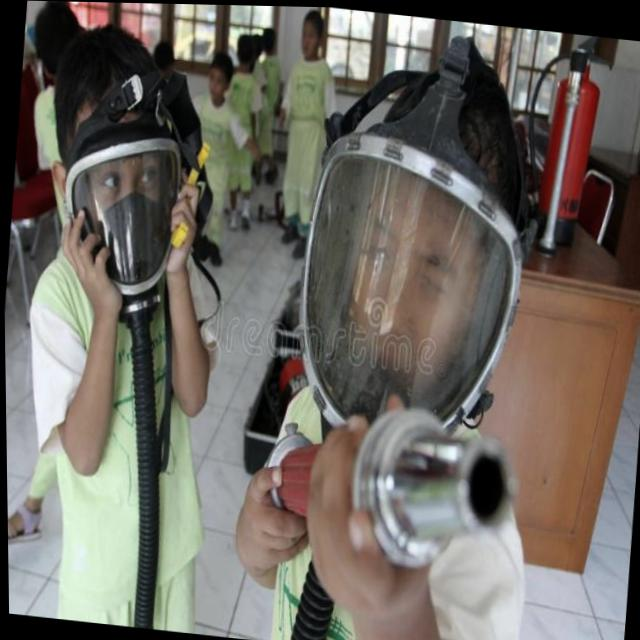FireExtinguisher: (500, 25, 619, 266)
